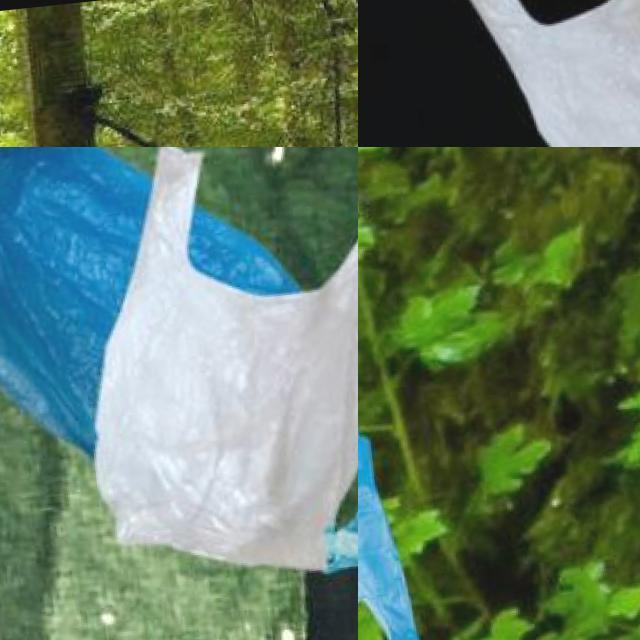waste: (55, 147, 358, 585), (0, 147, 317, 459), (435, 0, 640, 147)
